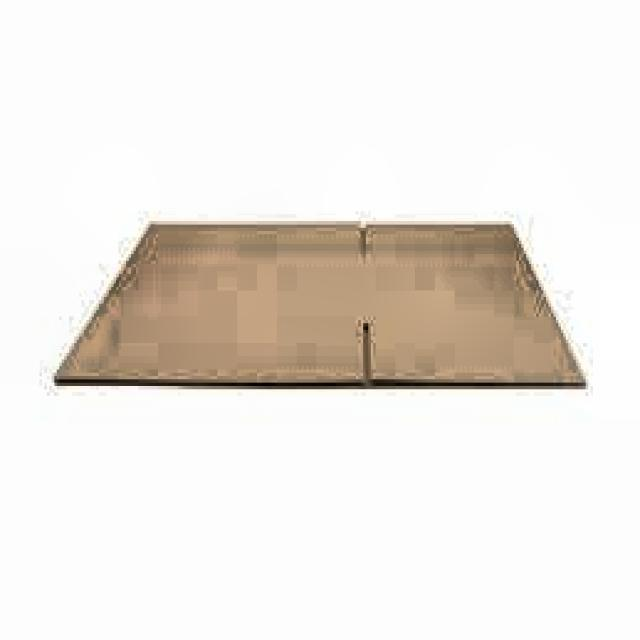cardboard: (52, 218, 586, 386)
